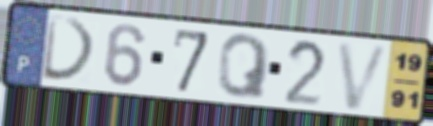2: (280, 38, 331, 107)
6: (100, 22, 148, 88)
7: (171, 27, 212, 94)
D: (40, 13, 99, 84)
Q: (215, 32, 273, 101)
V: (334, 40, 394, 112)
